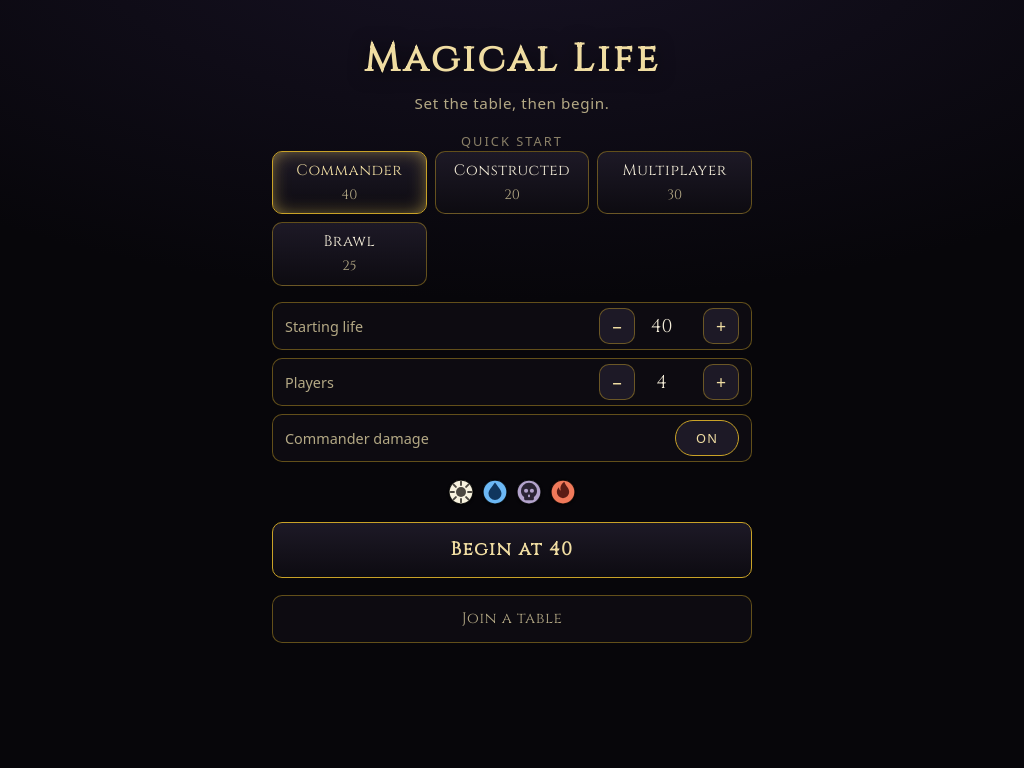
Test: new game sheet › fills the controls in from whichever preset is tapped
Click the button "Constructed 20" at (512,183), box [435,151,589,214]
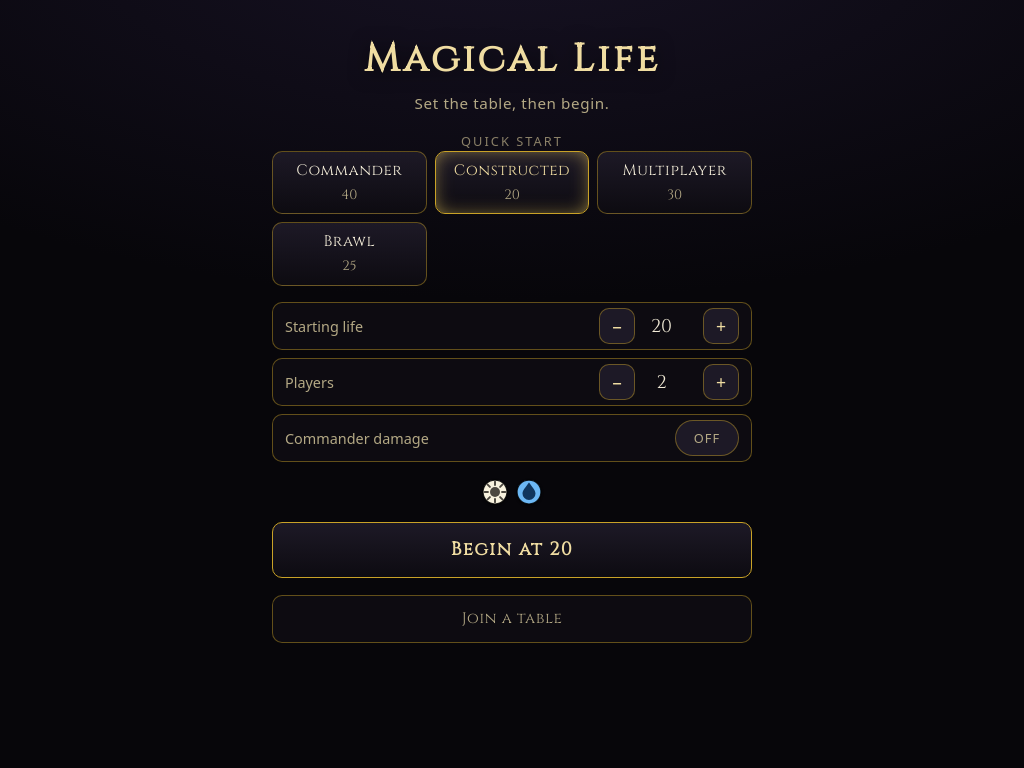
Check: the number field labelled "Starting life" holds "20", box [643,310,695,343]
Check: the number field labelled "Players" holds "2", box [643,366,695,399]
Check: the button "Begin at 20" is shown, box [272,522,752,578]
